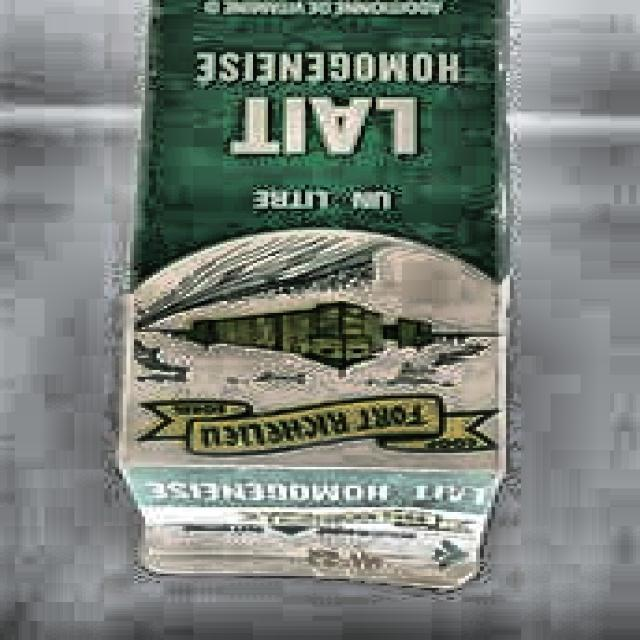cardboard: (116, 2, 514, 590)
